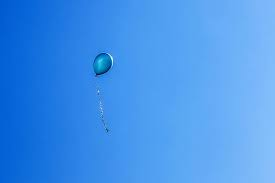Balloon: (93, 53, 112, 75)
